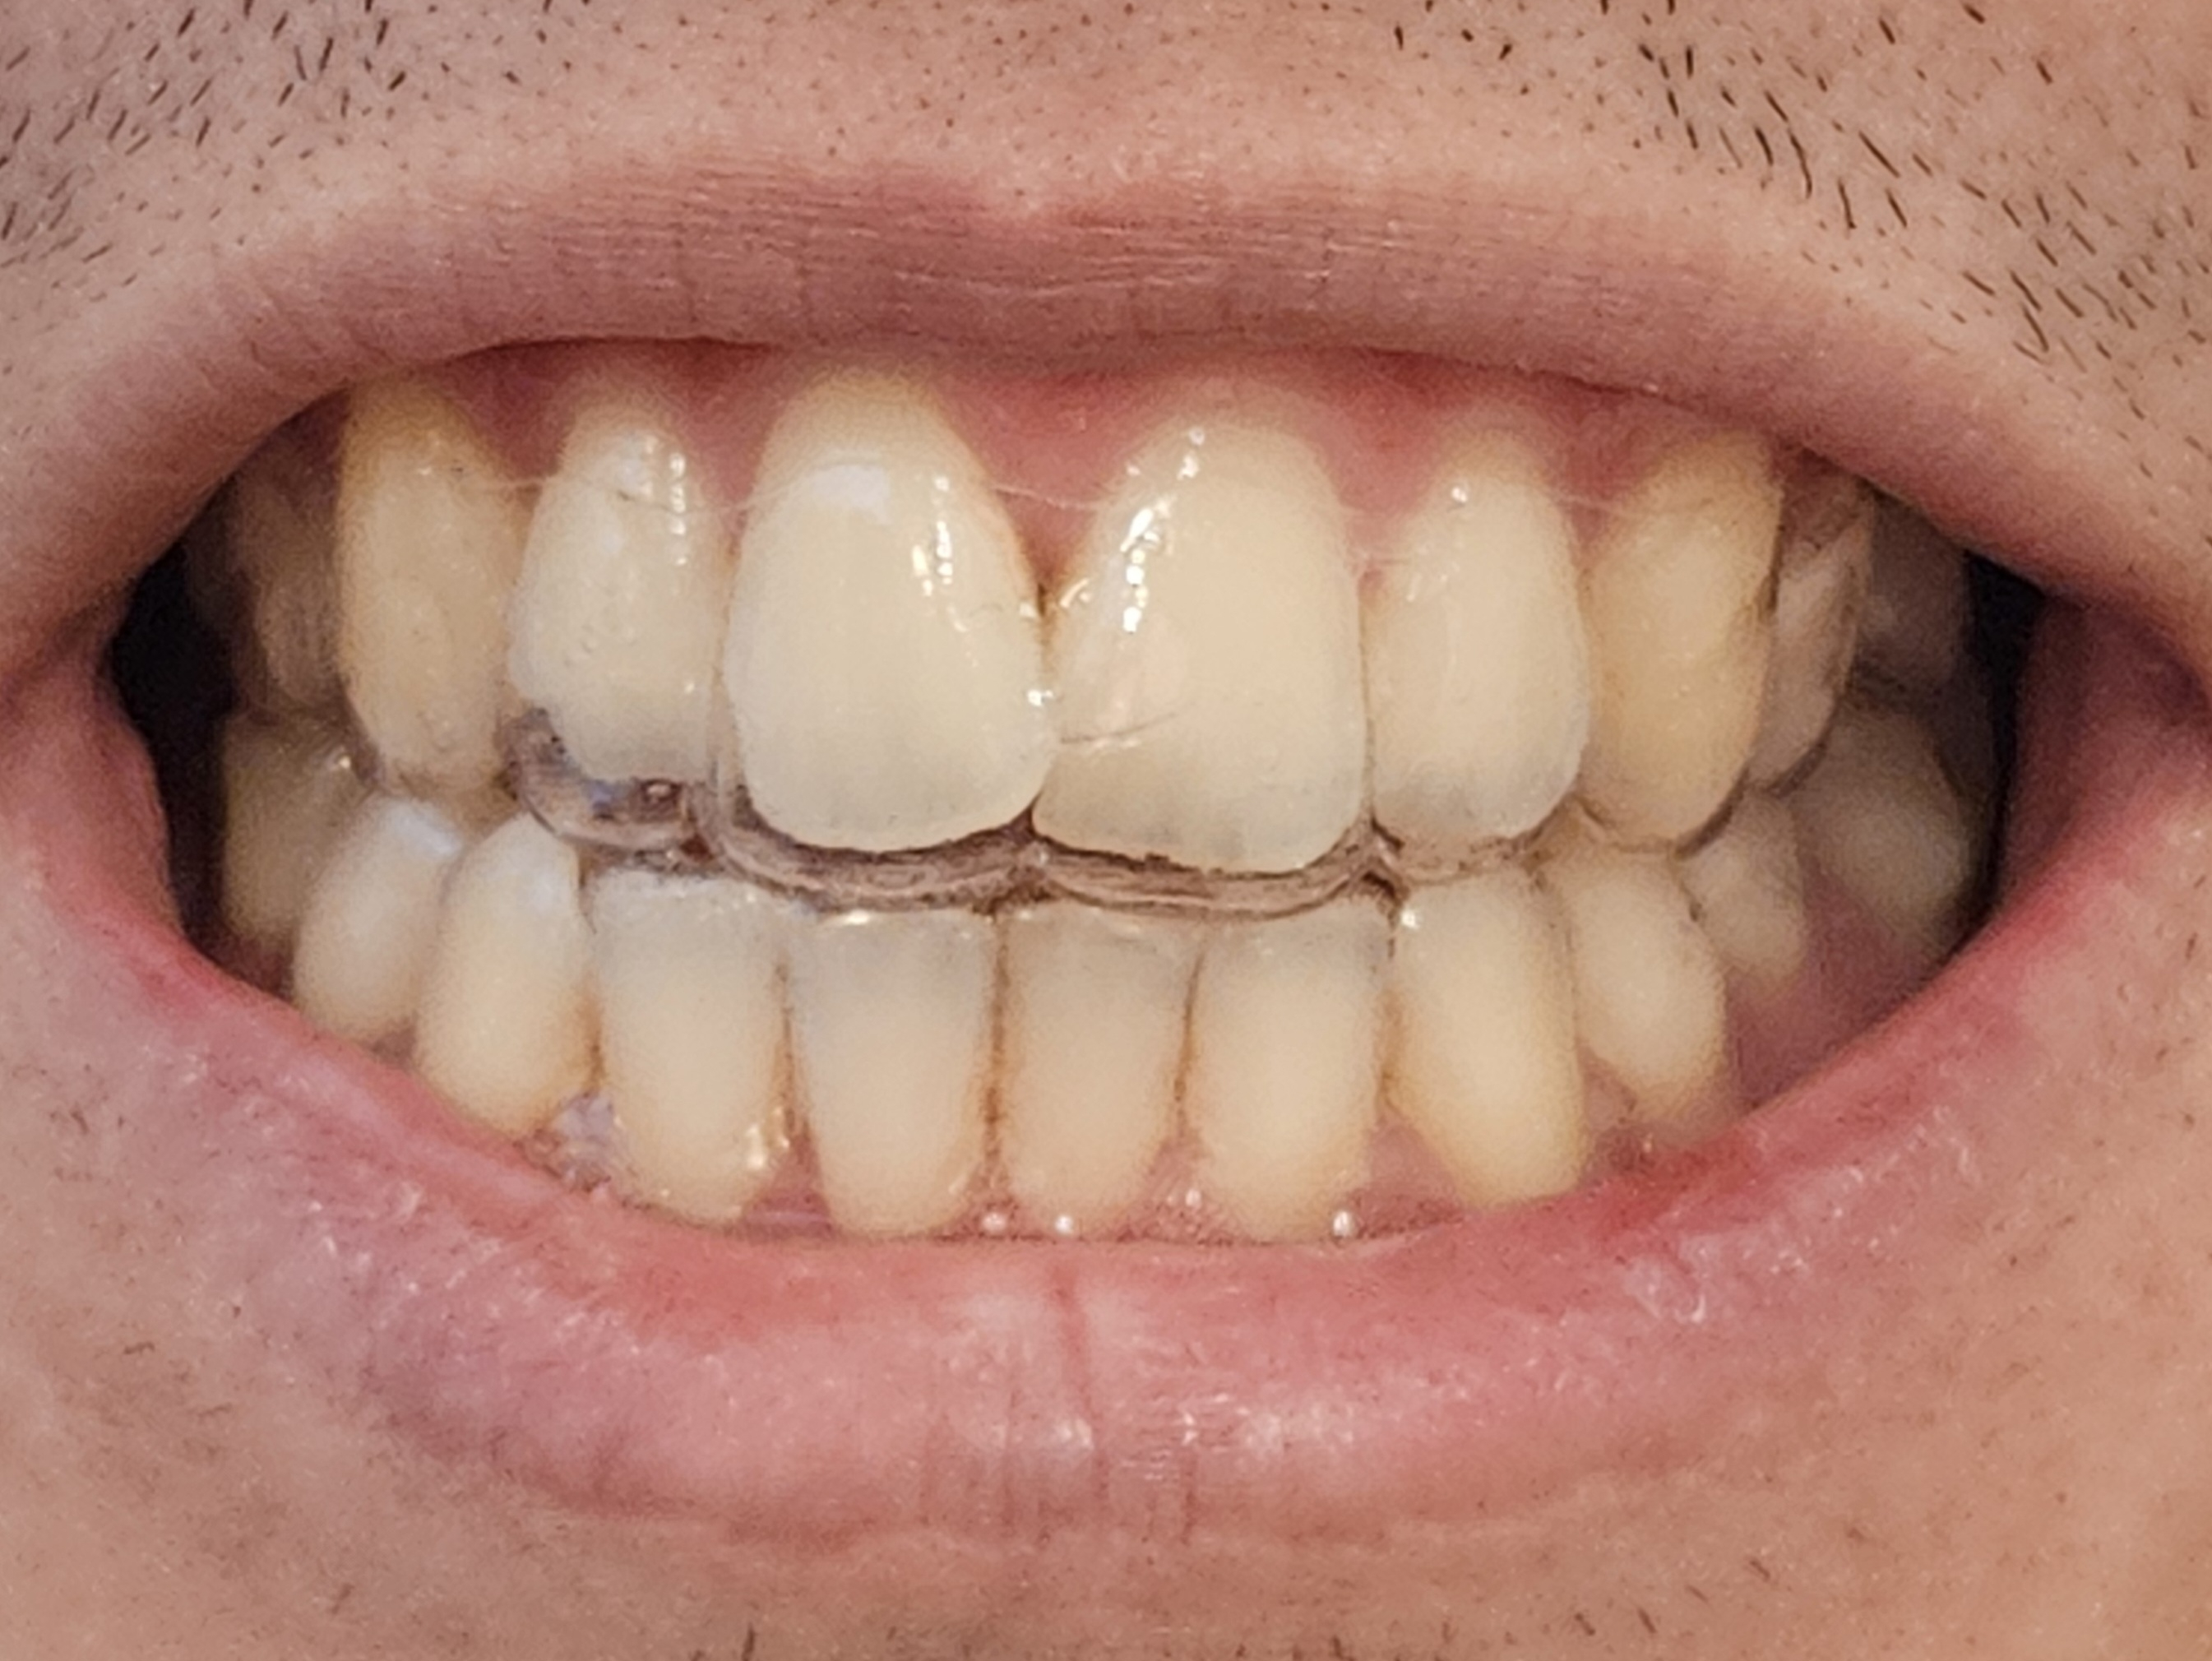teeth: (1040, 434, 1335, 832), (775, 401, 1040, 813), (518, 407, 713, 785), (1396, 469, 1582, 822), (996, 911, 1195, 1223), (345, 393, 504, 782), (1605, 487, 1785, 817), (604, 878, 766, 1241), (1211, 914, 1387, 1232), (413, 830, 590, 1129), (804, 919, 984, 1209), (1404, 885, 1570, 1190), (288, 785, 457, 1035), (1586, 855, 1739, 1120)
